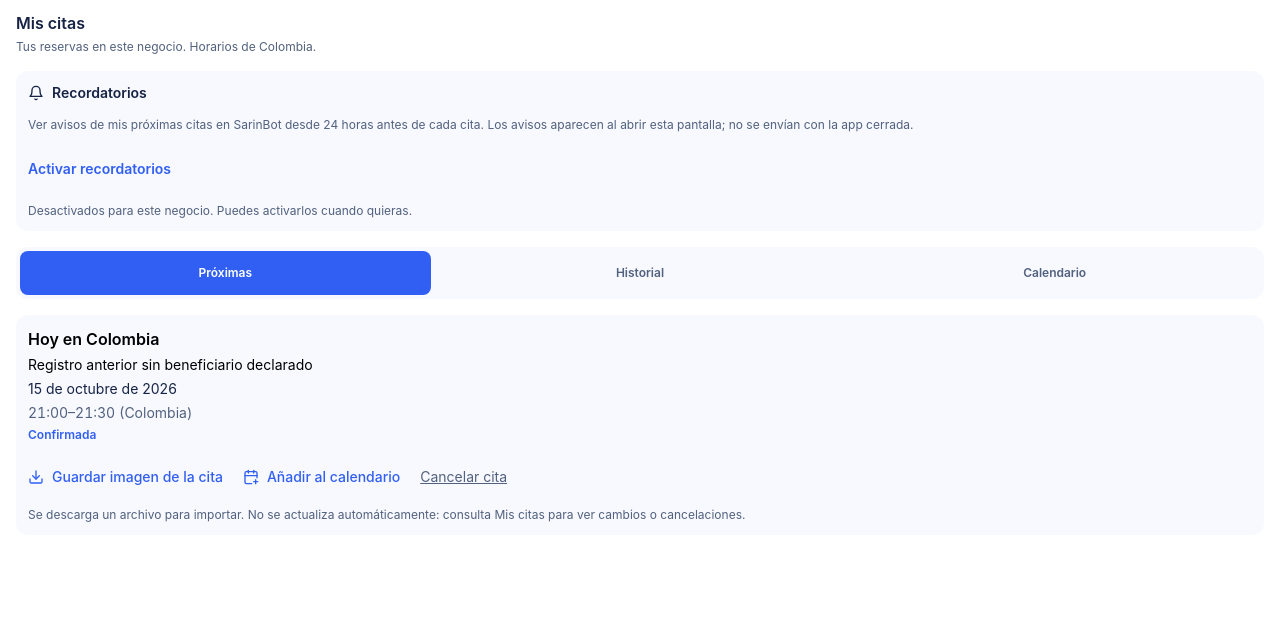
Test: the customer's appointments within one business › uses the Colombian day for its calendar and filters a selected date without showing another customer's visit
Click the button "Calendario" at (1055, 272), box x1=849 y1=250 x2=1260 y2=294
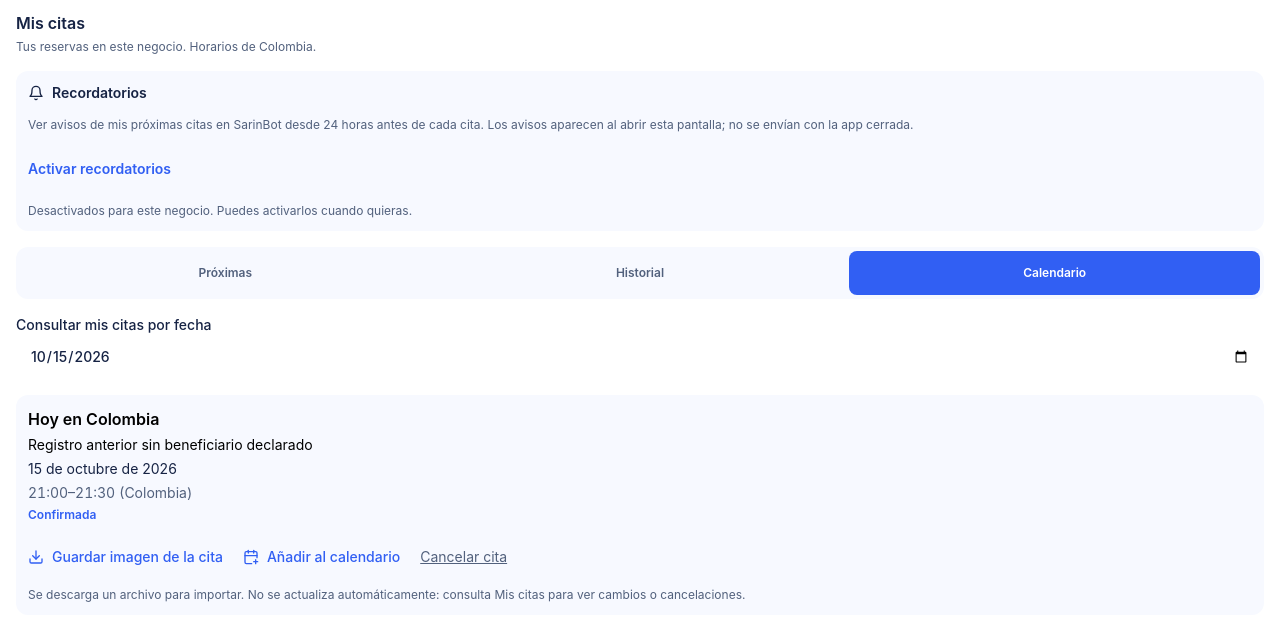
Now the date field labelled "Consultar mis citas por fecha" holds "2026-10-15"
Type "2026-10-16" into the date field labelled "Consultar mis citas por fecha" at (640, 356), box x1=16 y1=334 x2=1264 y2=378
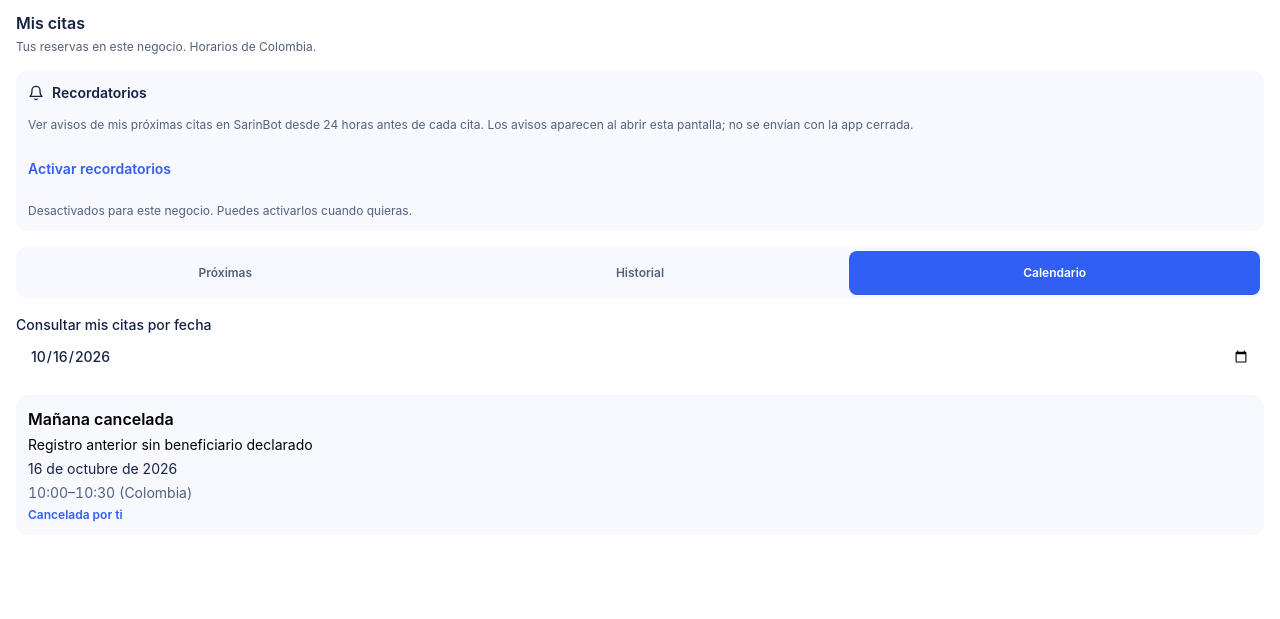
Now the text "Cancelada por ti" is shown, box x1=28 y1=506 x2=123 y2=522
Type "2026-10-19" into the date field labelled "Consultar mis citas por fecha" at (640, 356), box x1=16 y1=334 x2=1264 y2=378
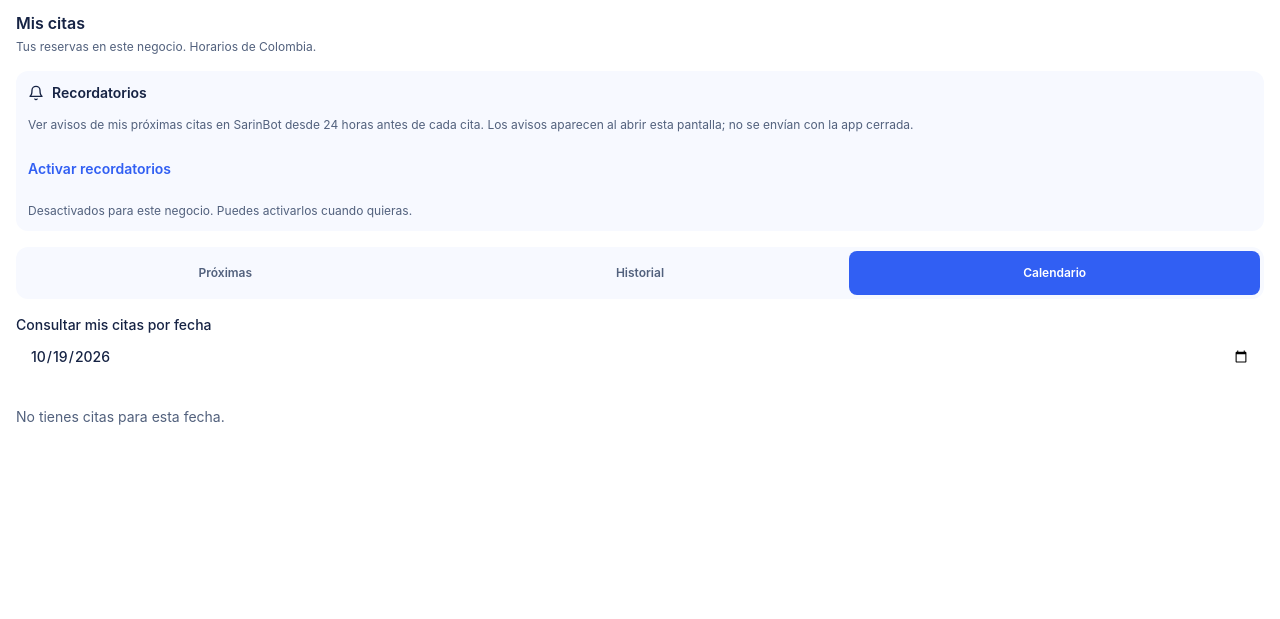
Now the text "No tienes citas para esta fecha" is shown, box x1=16 y1=408 x2=225 y2=424
